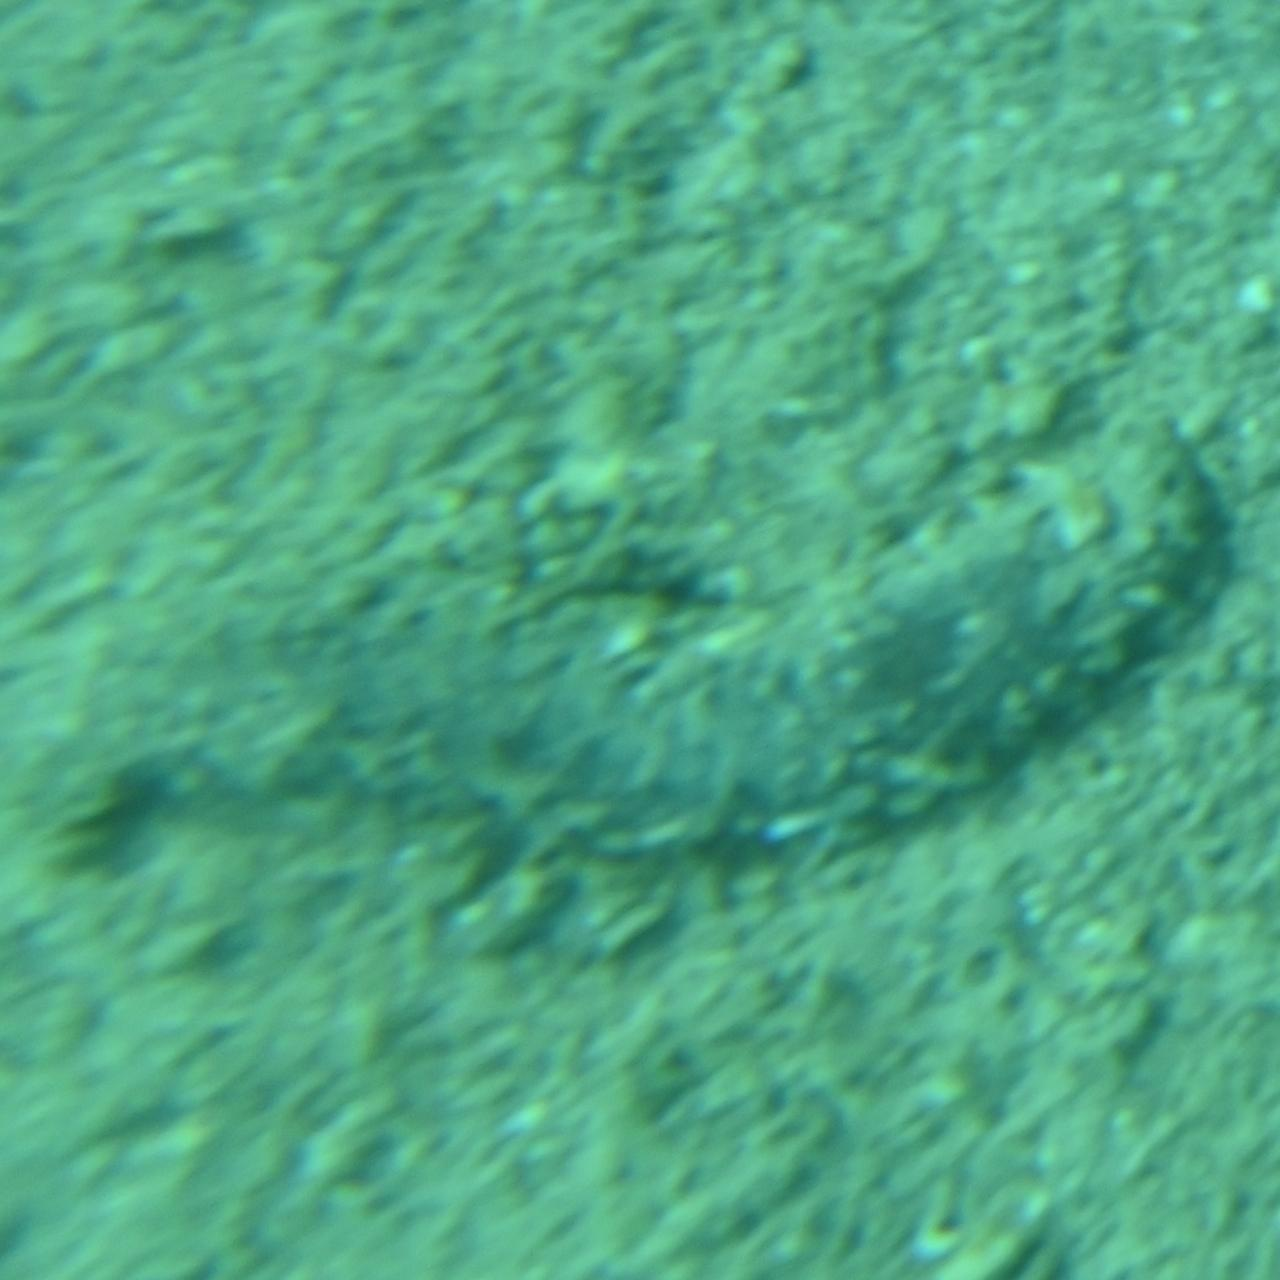Holothuria tubulosa: (28, 381, 1252, 899)
